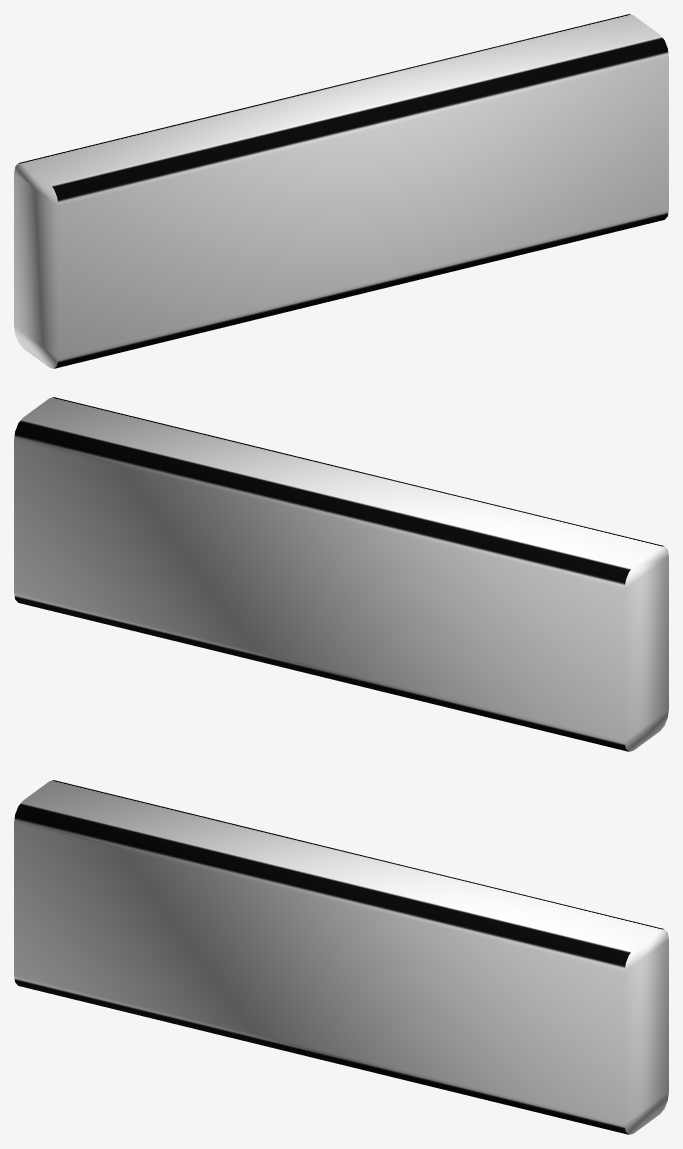
The model's file is movementArrowStraight.fbx.
3 renders of one model, top to bottom at view 1: azimuth 30°, elevation 25°; view 2: azimuth 150°, elevation 25°; view 3: azimuth 330°, elevation 25°, orthographic.
Visible parts, largest first — view 1: Cube_000; view 2: Cube_000; view 3: Cube_000.
Boxes of the visible parts, x1,y1,x2,y2 form: Cube_000: (14,14,668,368); Cube_000: (14,397,668,751); Cube_000: (14,780,668,1134).
Bounding box in the file's own units: 1 × 0.288 × 0.126.
